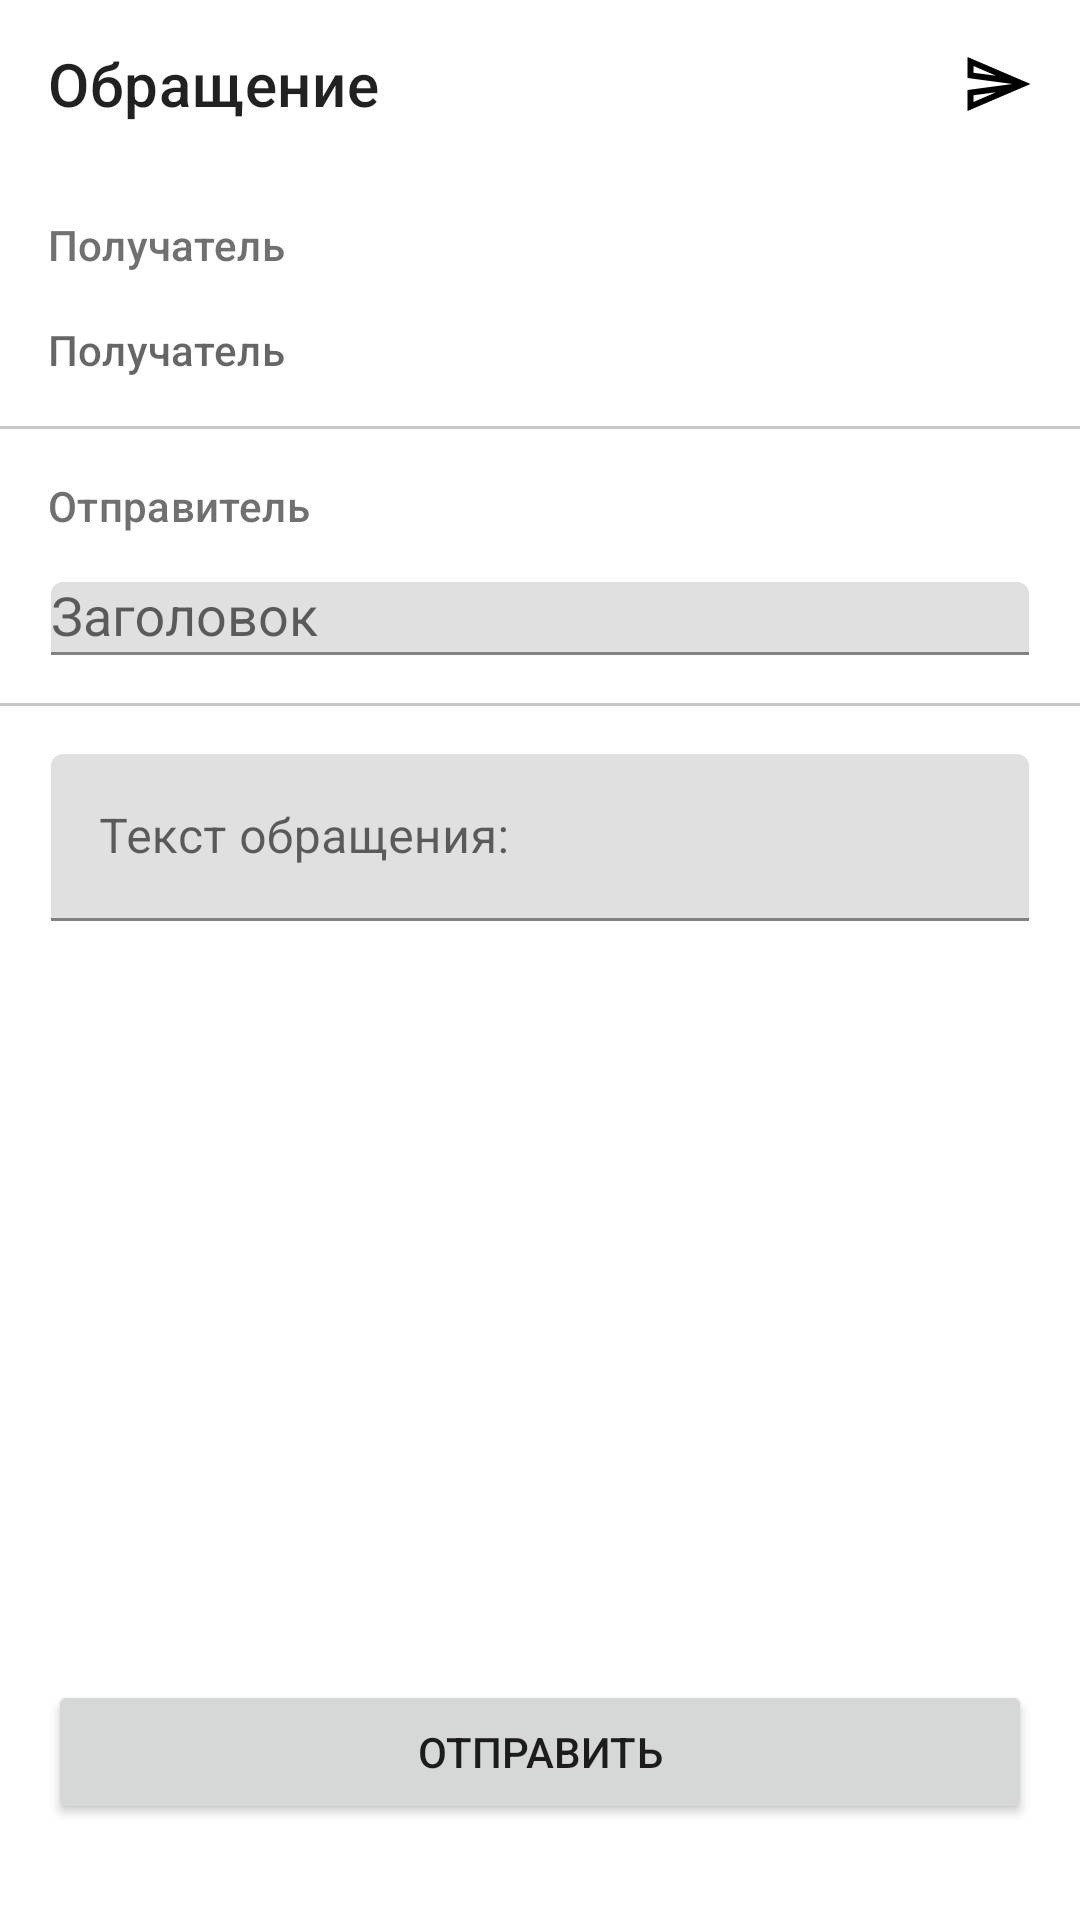

Point at icon controls on the screen. Image size 1080px x 1920px, points as [x,y].
send: [998,84]
